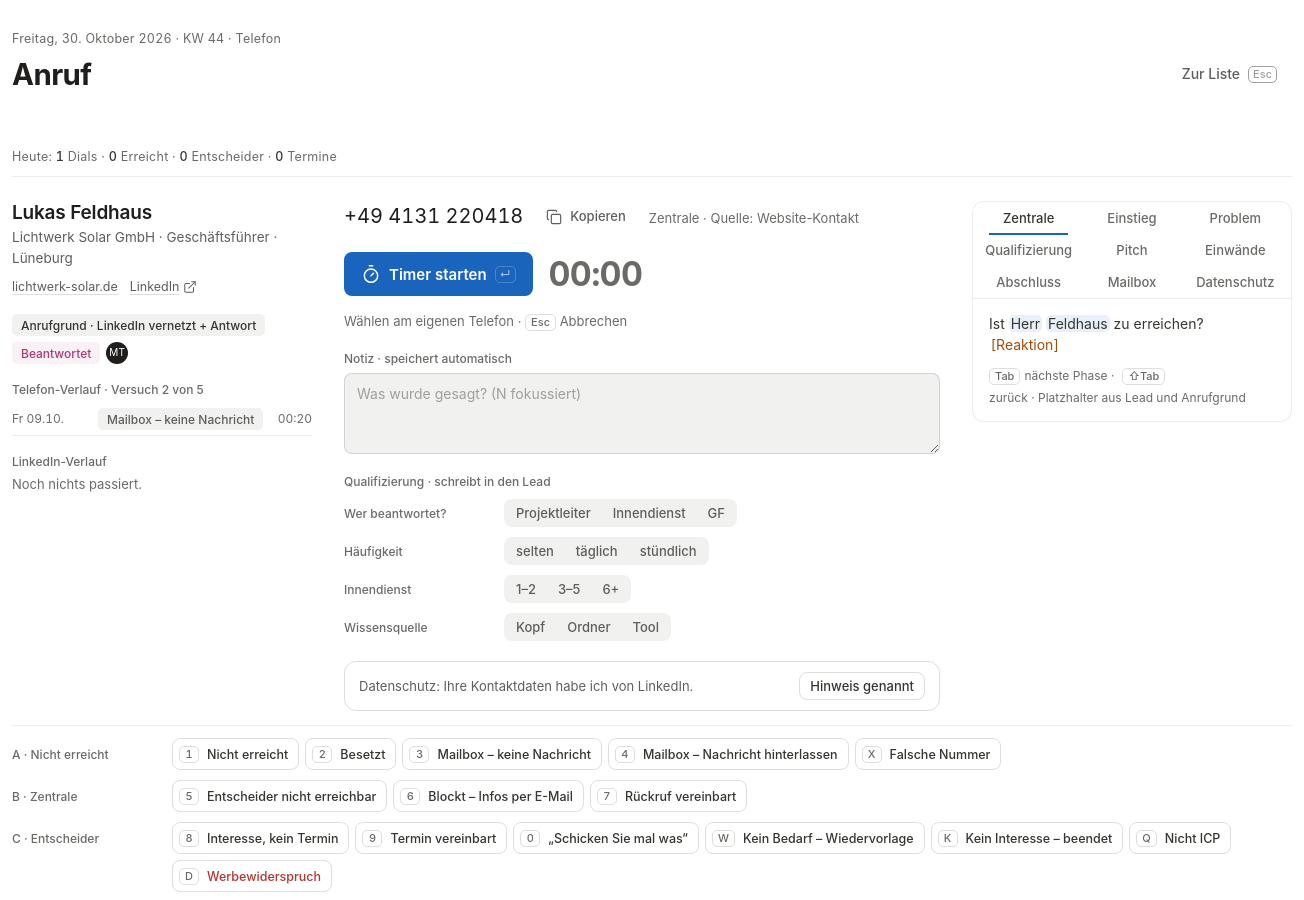
AnrufScreen › T-03/MO-04: Anrufen startet den Timer und legt den Entwurf in localStorage an; Mailbox-Tab bei Versuch 2
The width and height of the screenshot is (1304, 900).
Click the button with test id "anrufen" at (438, 274), box [344,252,532,296]
Wait 2100 ms
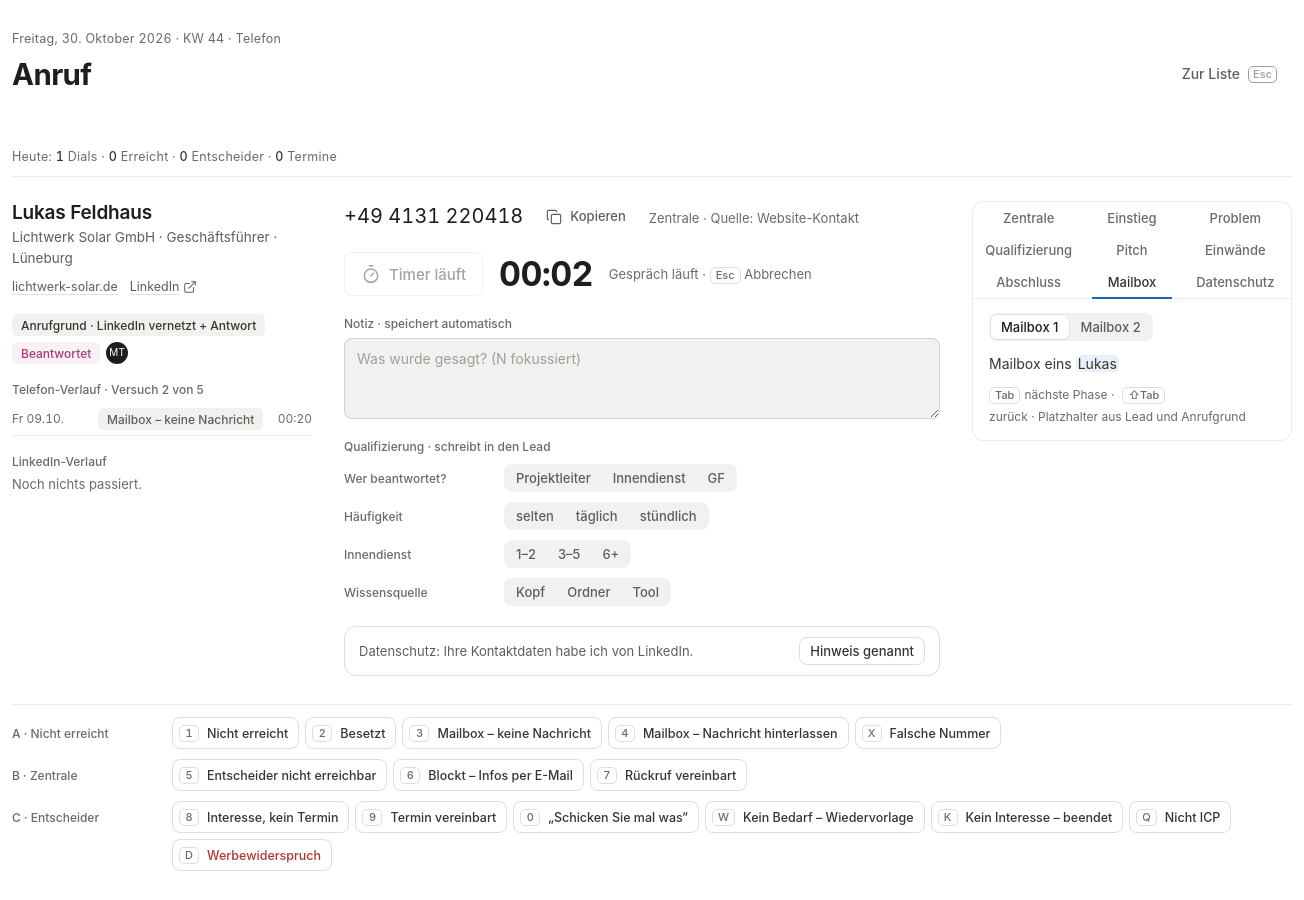
Now the button with test id "timer" reads "00:02", box [499,256,593,292]
